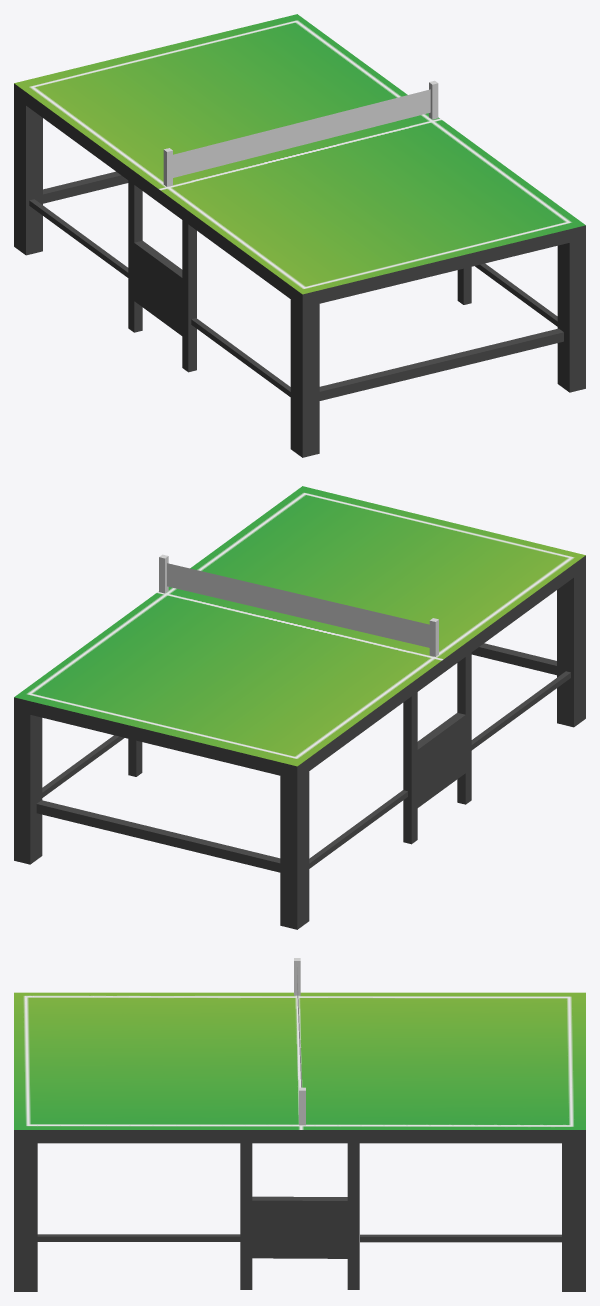
The model's file is tabletennis.fbx.
3 renders of one model, top to bottom at view 1: azimuth 30°, elevation 25°; view 2: azimuth 150°, elevation 25°; view 3: azimuth 270°, elevation 25°, orthographic.
Visible parts, largest first — view 1: Cube.003, Cube; view 2: Cube.003, Cube; view 3: Cube.003, Cube.
Part boxes in pixels (left/top/right/bottom): Cube.003: left=14, top=14, right=585, bottom=457; Cube: left=163, top=80, right=438, bottom=186; Cube.003: left=14, top=486, right=585, bottom=929; Cube: left=159, top=554, right=438, bottom=656; Cube.003: left=14, top=992, right=585, bottom=1291; Cube: left=294, top=958, right=305, bottom=1125.
Size of the model in its own units: 116 by 78.98 by 205.
Materials: 1 (1 with a texture image).
